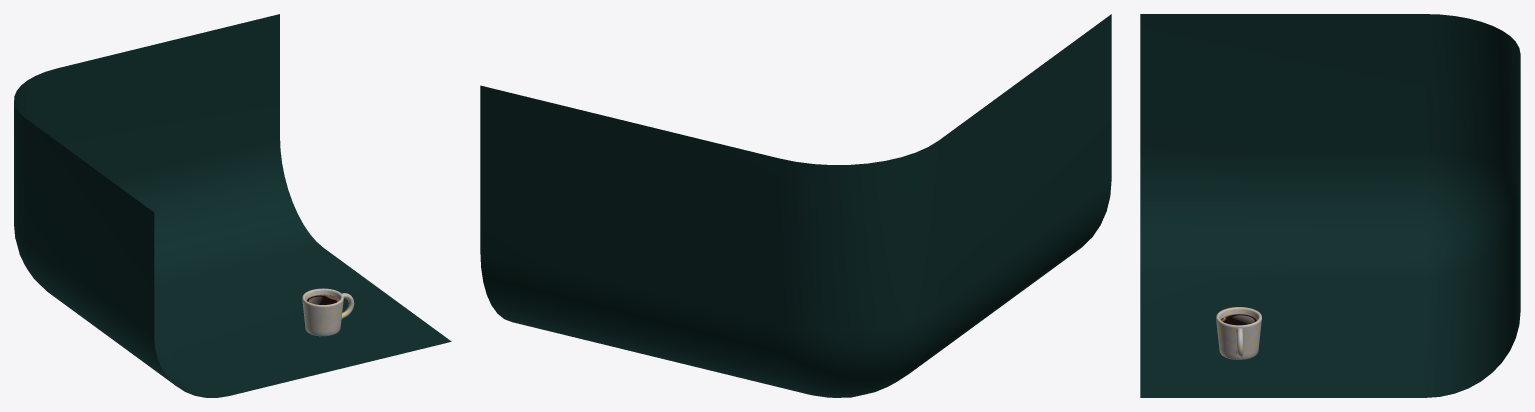
The model's file is kintsugi_cup_of_coffee-transformed.glb.
The picture shows the model from 3 angles, left to right: view 1: azimuth 30°, elevation 25°; view 2: azimuth 150°, elevation 25°; view 3: azimuth 270°, elevation 25°; orthographic projection. The views are drawn at different scales.
Visible parts, largest first — view 1: Object_8, Object_4; view 2: Object_8; view 3: Object_8, Object_4.
Boxes of the visible parts, <box> form: Object_8: <box>14,14,451,397</box>; Object_4: <box>302,288,354,336</box>; Object_8: <box>480,14,1111,397</box>; Object_8: <box>1140,14,1520,397</box>; Object_4: <box>1216,307,1261,359</box>.
Size of the model in its own units: 19.73 by 12.79 by 19.73.
3 materials, 2 textured.
